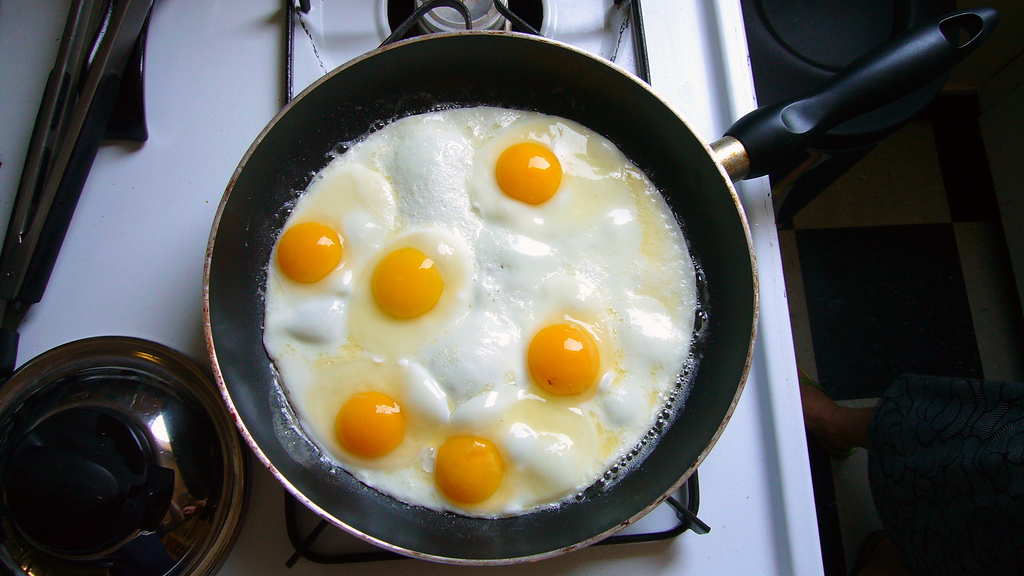fried egg: (447, 109, 600, 268), (489, 298, 639, 424), (291, 365, 433, 488), (366, 206, 475, 363), (420, 400, 549, 517), (274, 179, 368, 328)
